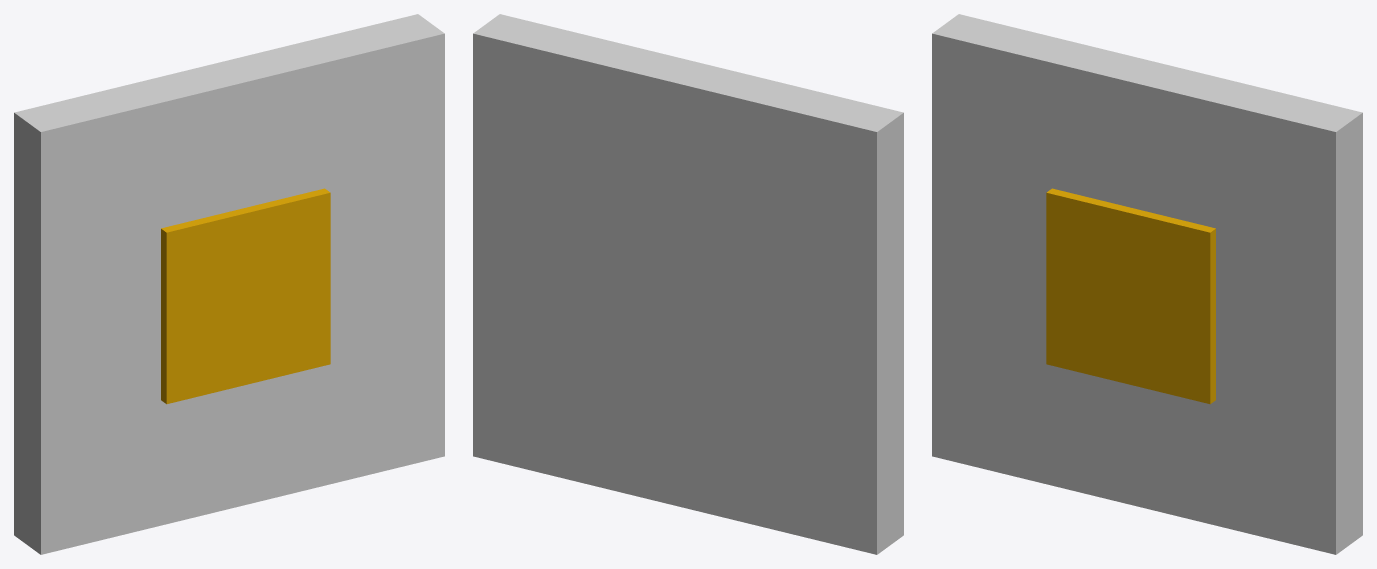
File: BackgroundHoopIB.fbx
3 renders of one model, left to right at view 1: azimuth 30°, elevation 25°; view 2: azimuth 150°, elevation 25°; view 3: azimuth 330°, elevation 25°, orthographic.
Visible parts, largest first — view 1: pCube1, pCube2; view 2: pCube1; view 3: pCube1, pCube2.
Part boxes in pixels (box(x1,y1,x2,y2)): pCube1: box(14, 14, 444, 554); pCube2: box(161, 188, 330, 404); pCube1: box(473, 14, 903, 554); pCube1: box(932, 14, 1362, 554); pCube2: box(1046, 188, 1215, 404).
Size of the model in its own units: 4.41 by 4.41 by 0.6148.
